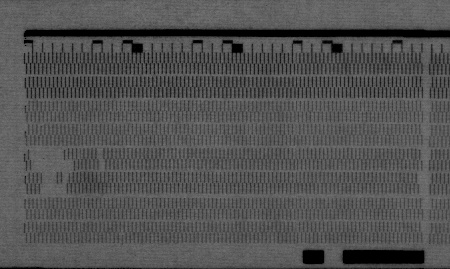Broken hole: (29, 148, 76, 194), (94, 147, 107, 172), (415, 172, 427, 195)
